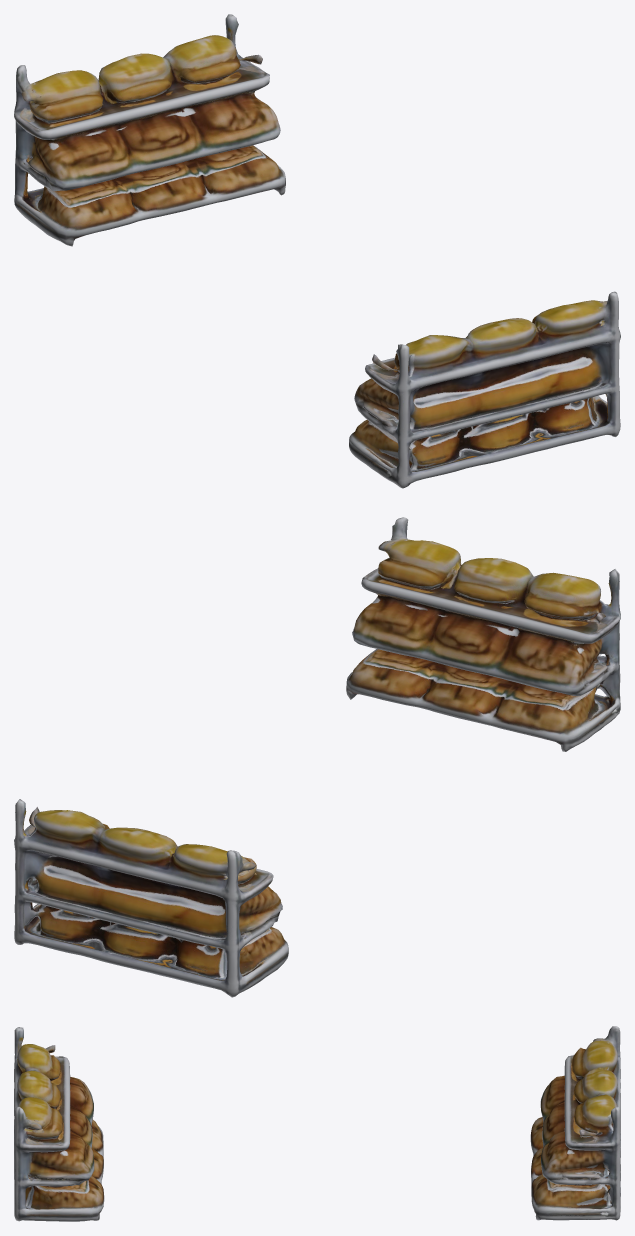
Rendered from Repisa3.obj.
The picture shows the model from 3 angles, top to bottom: view 1: azimuth 30°, elevation 25°; view 2: azimuth 150°, elevation 25°; view 3: azimuth 270°, elevation 25°; orthographic projection. The views are drawn at different scales.
Visible parts, largest first — view 1: Repisa3; view 2: Repisa3; view 3: Repisa3.
Boxes of the visible parts, left/top/right/bottom form: Repisa3: left=14, top=14, right=620, bottom=488; Repisa3: left=14, top=517, right=620, bottom=997; Repisa3: left=14, top=1026, right=620, bottom=1221.
Bounding box in the file's own units: 10.83 × 6.28 × 30.52.
1 material, 1 textured.
